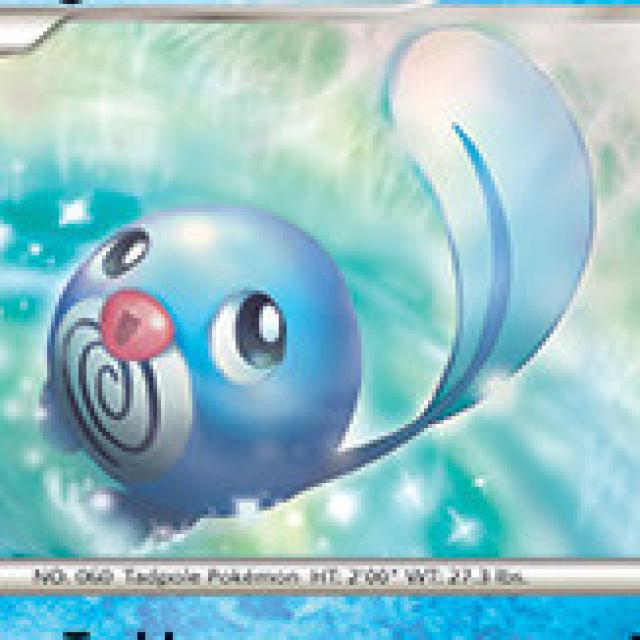Poliwag: (56, 208, 392, 538)
